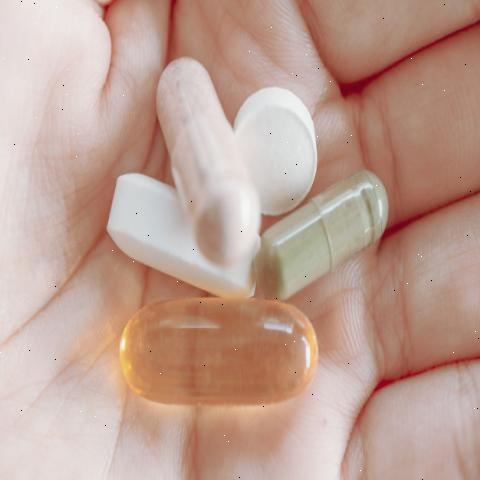Pill: (94, 159, 277, 295), (154, 44, 265, 266), (230, 50, 328, 215)
